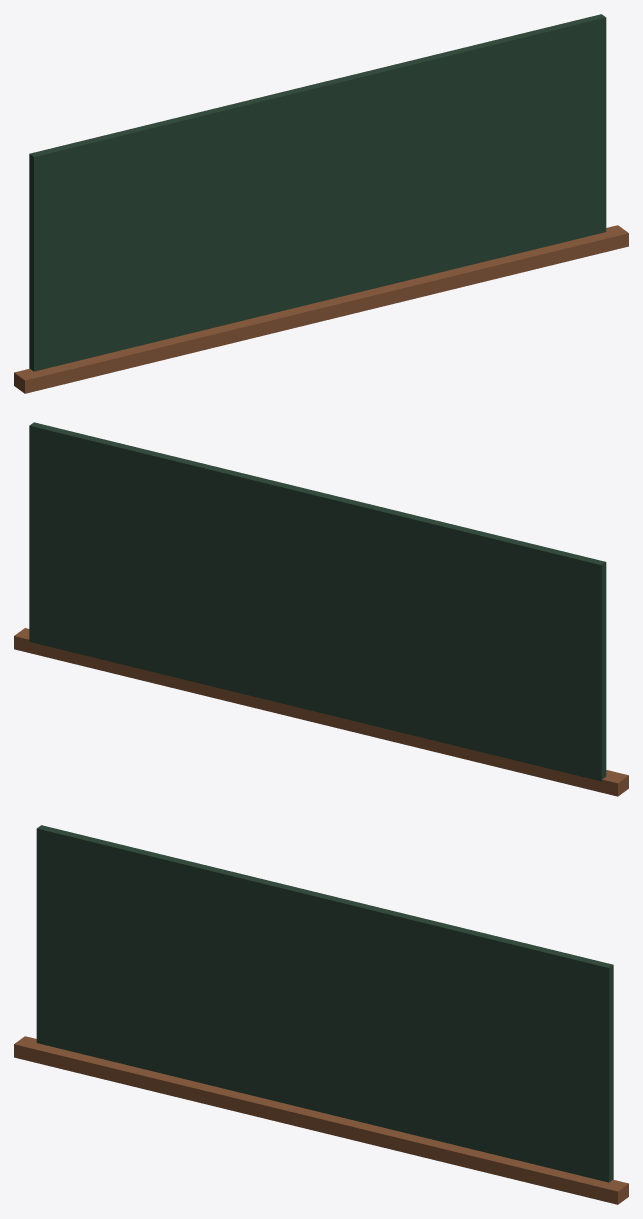
File: high_class_chalkboard.glb
3 renders of one model, top to bottom at view 1: azimuth 30°, elevation 25°; view 2: azimuth 150°, elevation 25°; view 3: azimuth 330°, elevation 25°, orthographic.
Parts seen in each view (by area): view 1: Box1, Box2; view 2: Box1, Box2; view 3: Box1, Box2.
Part boxes in pixels (x1,y1,x2,y2): Box1: [29, 14, 606, 371]; Box2: [14, 225, 628, 393]; Box1: [29, 422, 606, 781]; Box2: [14, 628, 628, 796]; Box1: [36, 825, 613, 1182]; Box2: [14, 1036, 628, 1204].
Bounding box in the file's own units: 3.8 × 1.37 × 0.125.
